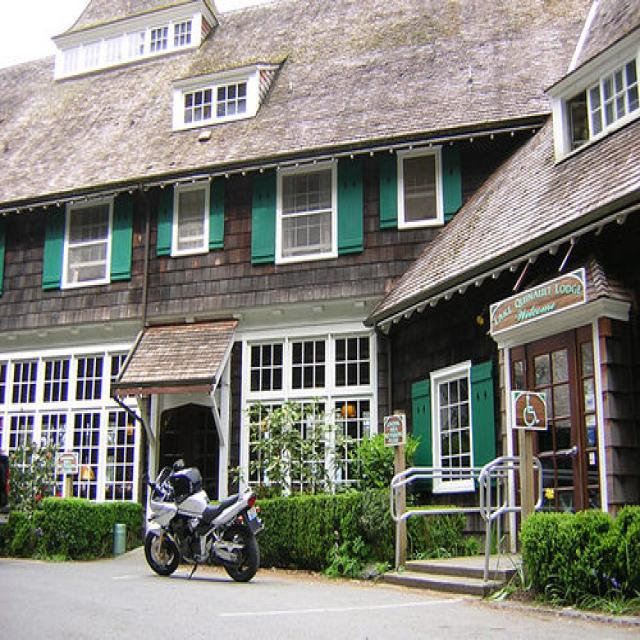motorbike: (139, 460, 266, 585)
